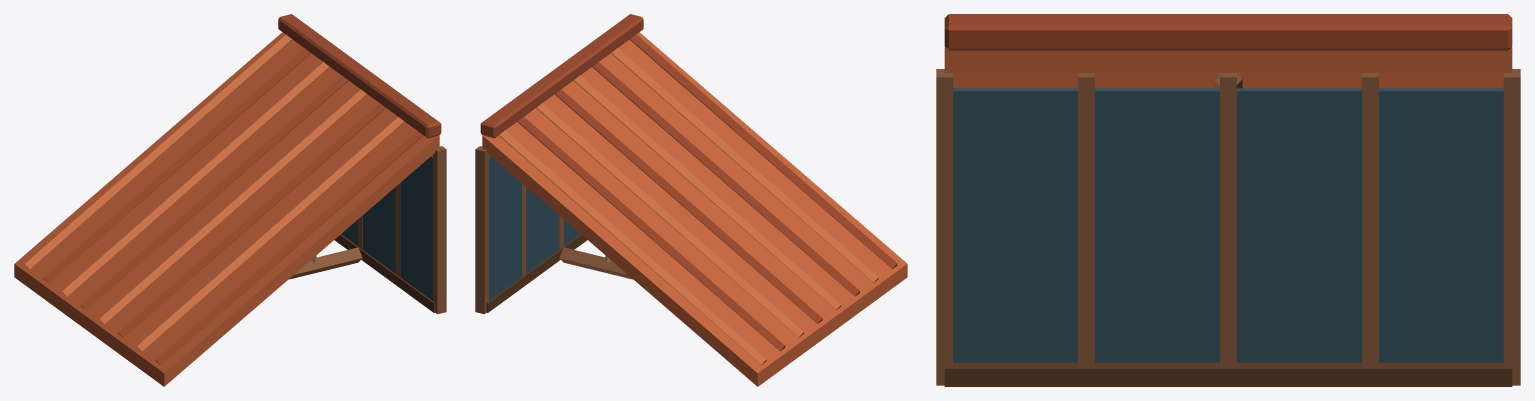
The model's file is hall_sawtooth_bay.glb.
The picture shows the model from 3 angles, left to right: view 1: azimuth 30°, elevation 25°; view 2: azimuth 150°, elevation 25°; view 3: azimuth 270°, elevation 25°; orthographic projection. The views are drawn at different scales.
Parts seen in each view (by area): view 1: roof; view 2: roof; view 3: roof.
Part boxes in pixels (left/top/right/bottom): roof: left=14, top=14, right=446, bottom=386; roof: left=475, top=14, right=907, bottom=386; roof: left=936, top=14, right=1520, bottom=386.
Size of the model in its own units: 4.34 by 2.9 by 4.12.
